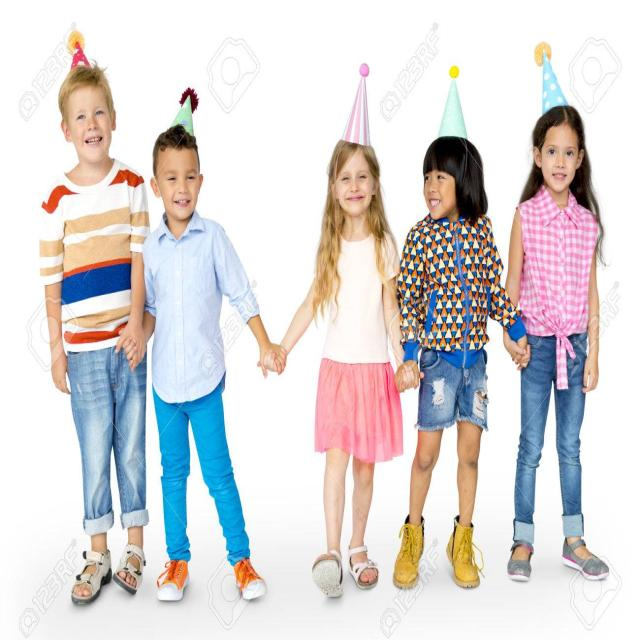child: (139, 48, 284, 629), (268, 58, 408, 607), (494, 37, 634, 586), (383, 56, 523, 604), (34, 18, 153, 608)
